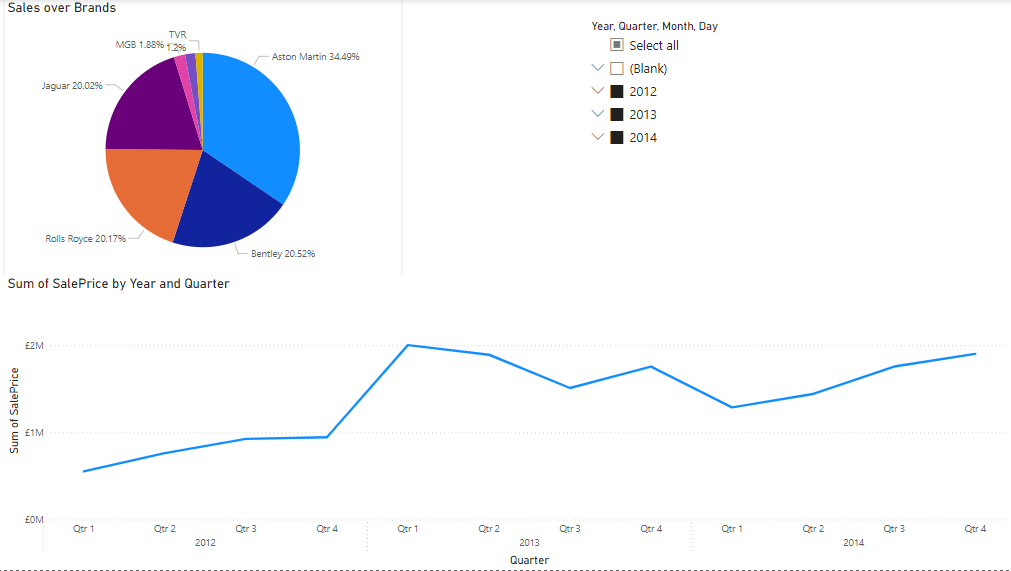

The page's visual inventory and layout, read from the dashboard file:
{"tool":"powerbi","page":{"name":"Page 3","canvas":[1280,720],"ordinal":2},"visuals":[{"type":"pieChart","title":"Sales over Brands","fields":{"Category":["Stock.Make"],"Y":["Sum(InvoiceLines.SalePrice)"]},"box":[10.1,0,501.3,360.5],"z":0},{"type":"lineChart","fields":{"Y":["Sum(InvoiceLines.SalePrice)"],"Category":["DateDimension.DateKey.Variation.Date Hierarchy.Year","DateDimension.DateKey.Variation.Date Hierarchy.Quarter","DateDimension.DateKey.Variation.Date Hierarchy.Month","DateDimension.DateKey.Variation.Date Hierarchy.Day"]},"box":[10.1,348.1,1269.7,371.8],"z":1},{"type":"slicer","fields":{"Values":["DateDimension.DateKey.Variation.Date Hierarchy.Year","DateDimension.DateKey.Variation.Date Hierarchy.Quarter","DateDimension.DateKey.Variation.Date Hierarchy.Month","DateDimension.DateKey.Variation.Date Hierarchy.Day"]},"box":[736.8,21.4,286.2,199.4],"z":2}]}

Visuals, with their boxes in screenshot pixels (x1, y1, x2, y2), scaled from the page's 1280x720 canvas onto the 1011x571 screenshot:
"Sales over Brands" pieChart: 8, 0, 404, 286
lineChart - Sum(InvoiceLines.SalePrice) x DateDimension.DateKey.Variation.Date Hierarchy.Year: 8, 276, 1010, 570
slicer - DateDimension.DateKey.Variation.Date Hierarchy.Year x DateDimension.DateKey.Variation.Date Hierarchy.Quarter: 582, 17, 808, 175
